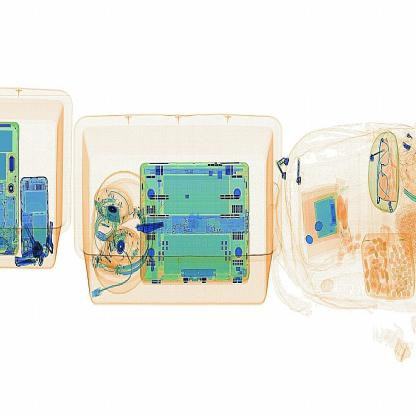knife: (132, 214, 171, 246)
